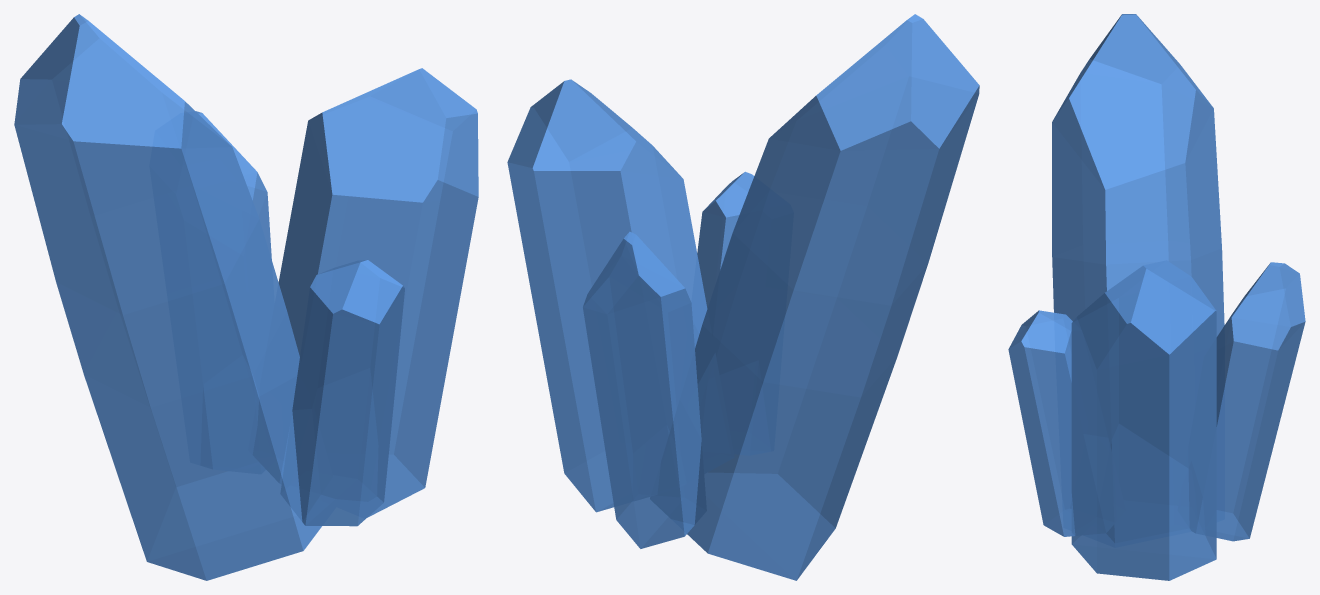
The model's file is Crystals_l_04.fbx.
3 views of the same model, side by side, from view 1: azimuth 30°, elevation 25°; view 2: azimuth 150°, elevation 25°; view 3: azimuth 270°, elevation 25° (orthographic). The views are drawn at different scales.
Visible parts, largest first — view 1: Crystals_l_04; view 2: Crystals_l_04; view 3: Crystals_l_04.
Part boxes in pixels (x1,y1,x2,y2): Crystals_l_04: (14, 14, 478, 580); Crystals_l_04: (507, 14, 979, 580); Crystals_l_04: (1008, 14, 1305, 580).
Size of the model in its own units: 3.37 by 4.27 by 2.42.
